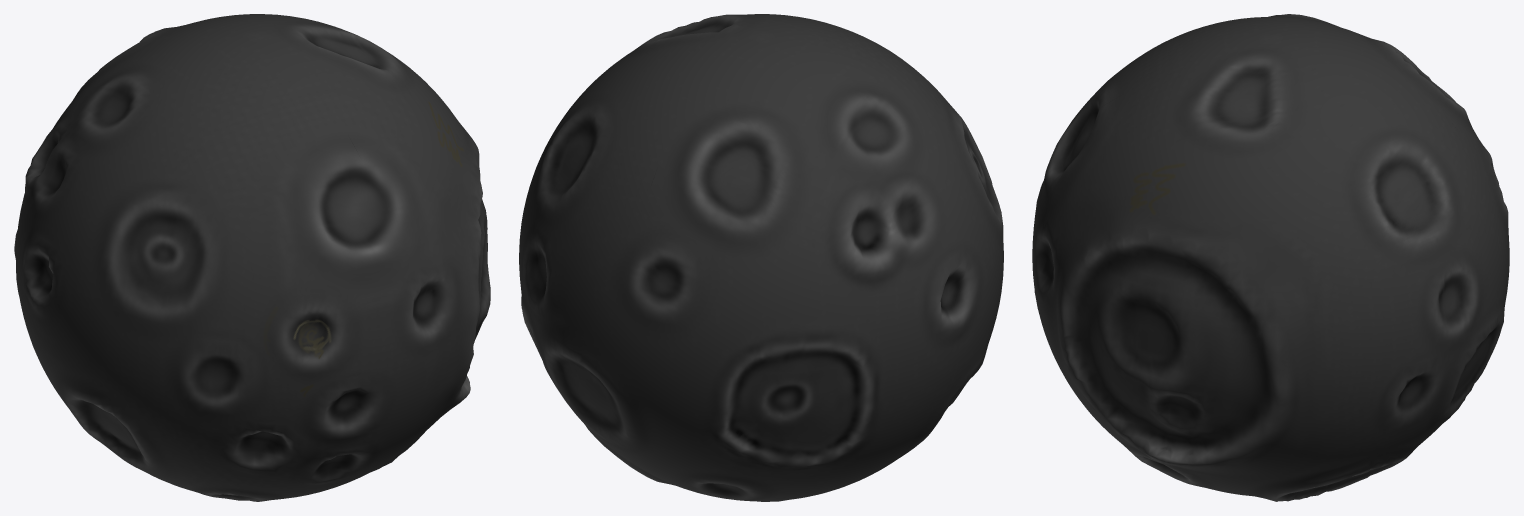
File: moon.fbx
3 views of the same model, side by side, from view 1: azimuth 30°, elevation 25°; view 2: azimuth 150°, elevation 25°; view 3: azimuth 270°, elevation 25° (orthographic).
Parts seen in each view (by area): view 1: Moon LR; view 2: Moon LR; view 3: Moon LR.
Part boxes in pixels (x1,y1,x2,y2): Moon LR: (14, 14, 490, 501); Moon LR: (519, 14, 1003, 501); Moon LR: (1032, 14, 1509, 501).
Size of the model in its own units: 503 by 500 by 494.
